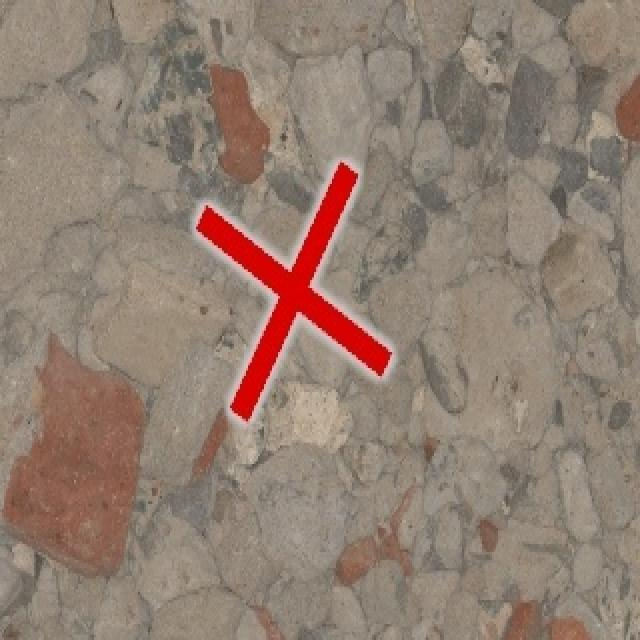x_marker: (195, 161, 391, 420)
